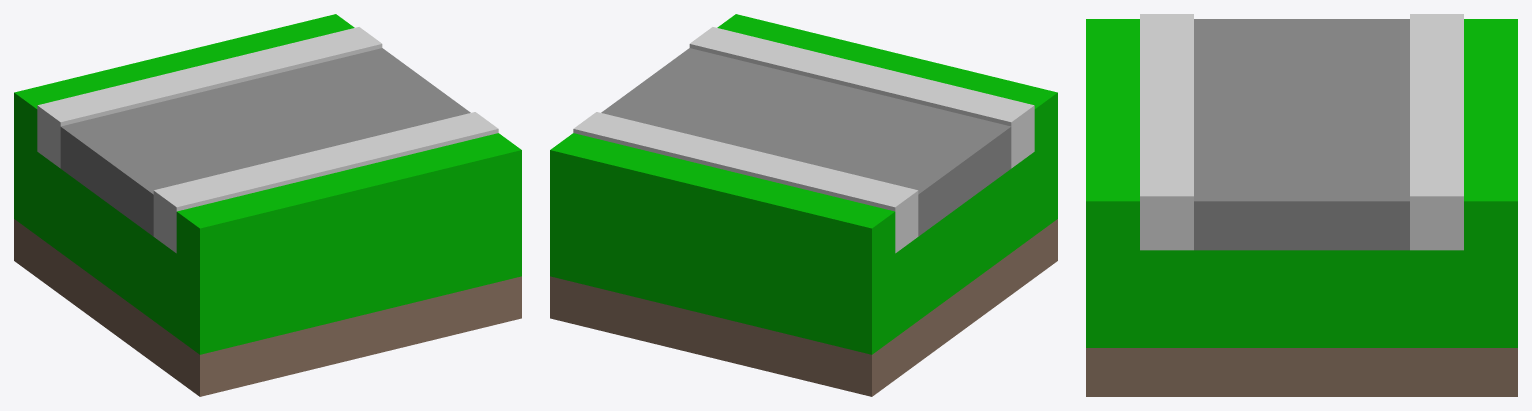
File: RuaAlta.fbx
The picture shows the model from 3 angles, left to right: view 1: azimuth 30°, elevation 25°; view 2: azimuth 150°, elevation 25°; view 3: azimuth 270°, elevation 25°; orthographic projection. The views are drawn at different scales.
Visible parts, largest first — view 1: RuaAlta; view 2: RuaAlta; view 3: RuaAlta.
Boxes of the visible parts, x1,y1,x2,y2 form: RuaAlta: (14, 14, 521, 396); RuaAlta: (550, 14, 1057, 396); RuaAlta: (1086, 14, 1517, 396).
Bounding box in the file's own units: 8 × 4.1 × 8.
